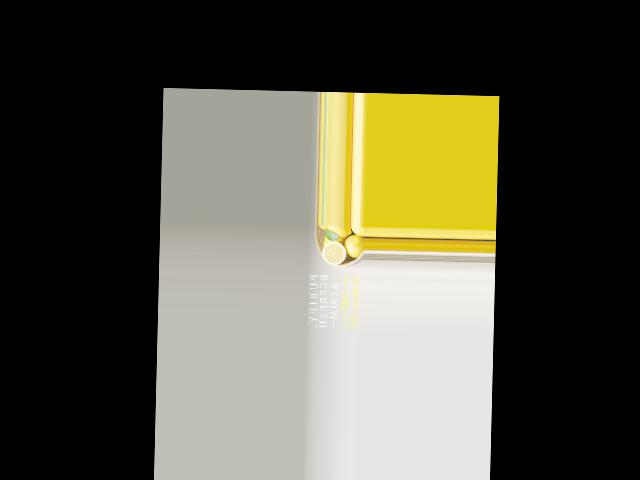lemon: (343, 235, 364, 256)
